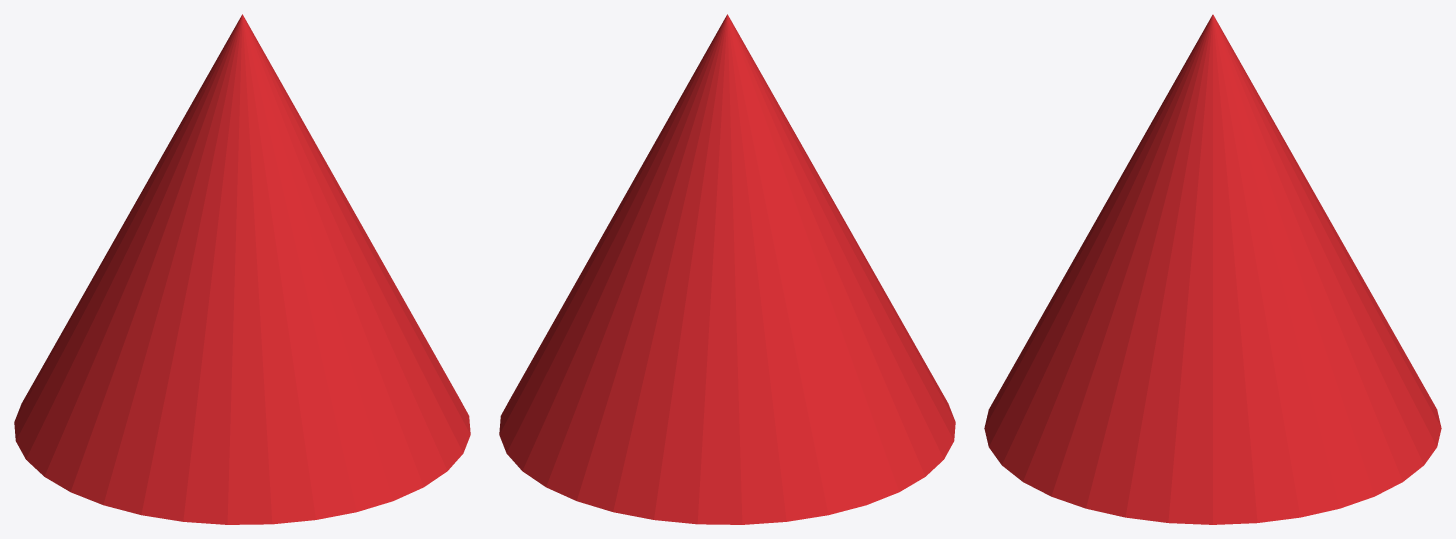
File: lods.glb
The picture shows the model from 3 angles, left to right: view 1: azimuth 30°, elevation 25°; view 2: azimuth 150°, elevation 25°; view 3: azimuth 270°, elevation 25°; orthographic projection.
Visible parts, largest first — view 1: Cone_LOD0; view 2: Cone_LOD0; view 3: Cone_LOD0.
Boxes of the visible parts, <box> form: Cone_LOD0: <box>14,14,470,524</box>; Cone_LOD0: <box>499,14,955,524</box>; Cone_LOD0: <box>984,14,1441,524</box>.
Size of what is drawn, in the model's own units: 2 by 2 by 2.
